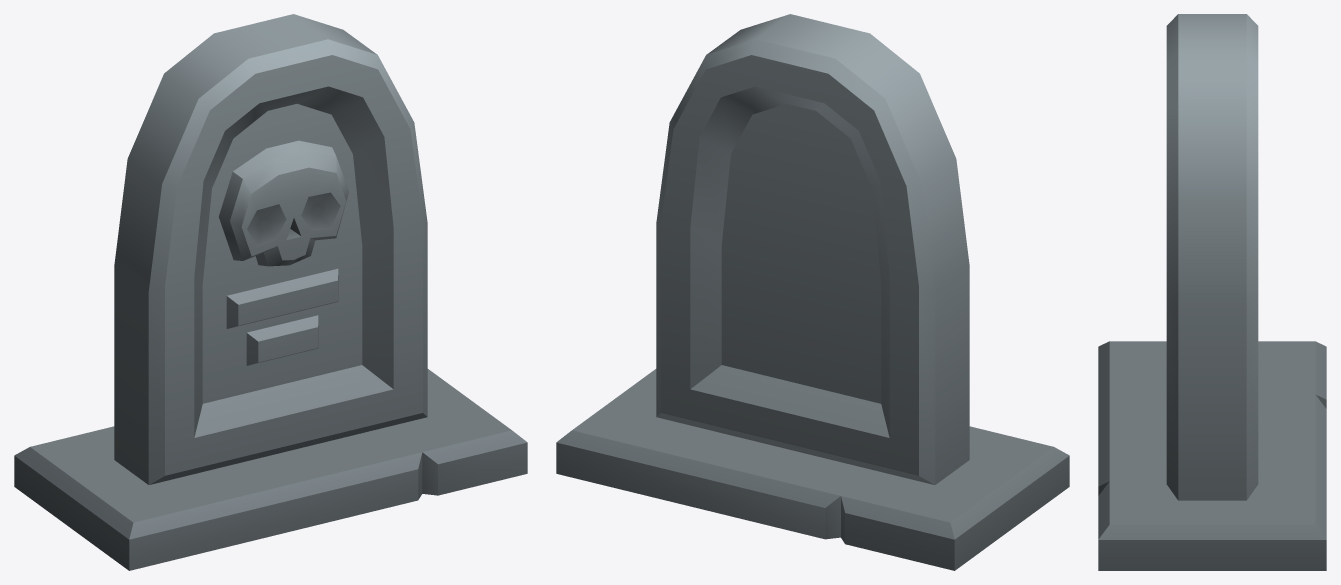
File: grave_a.glb
3 views of the same model, side by side, from view 1: azimuth 30°, elevation 25°; view 2: azimuth 150°, elevation 25°; view 3: azimuth 270°, elevation 25° (orthographic).
Visible parts, largest first — view 1: grave_A; view 2: grave_A; view 3: grave_A.
Boxes of the visible parts, x1,y1,x2,y2 form: grave_A: [14, 14, 527, 570]; grave_A: [556, 14, 1069, 570]; grave_A: [1098, 14, 1326, 570].
Bounding box in the file's own units: 2 × 2.13 × 1.
1 material, 1 textured.
